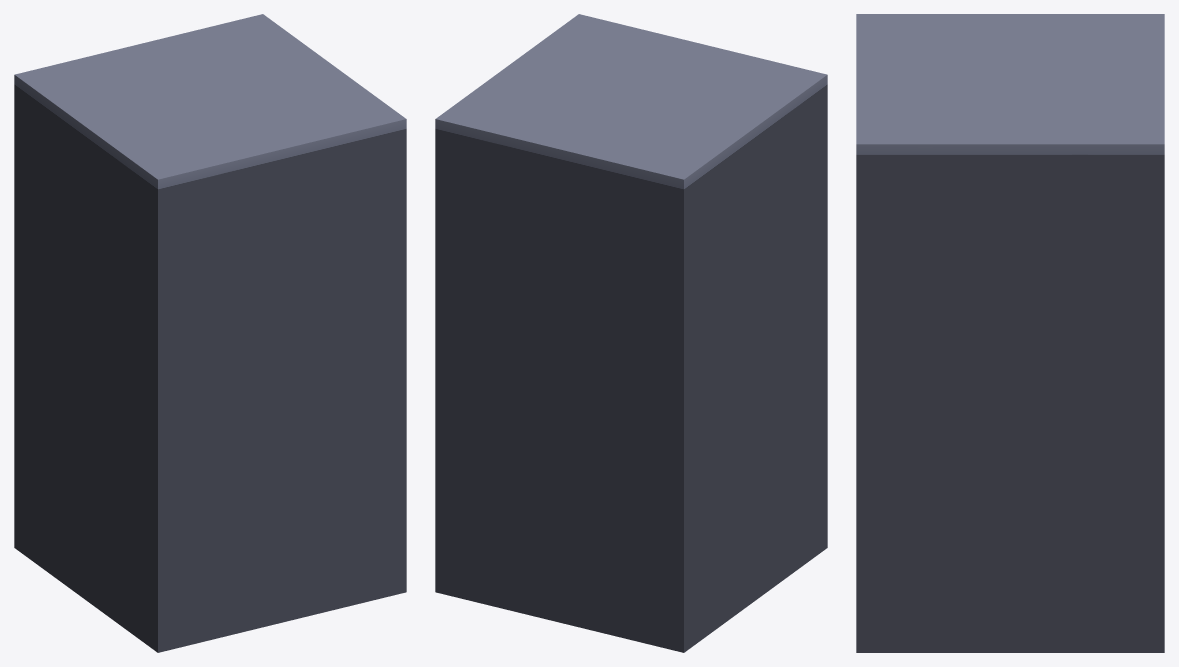
File: floor_empty.glb
3 renders of one model, left to right at view 1: azimuth 30°, elevation 25°; view 2: azimuth 150°, elevation 25°; view 3: azimuth 270°, elevation 25°, orthographic. The views are drawn at different scales.
Parts seen in each view (by area): view 1: pavement; view 2: pavement; view 3: pavement.
Boxes of the visible parts, left/top/right/bottom form: pavement: left=14, top=14, right=406, bottom=652; pavement: left=435, top=14, right=827, bottom=652; pavement: left=856, top=14, right=1164, bottom=652.
Size of the model in its own units: 1 by 1.82 by 1.
1 material, 1 textured.
